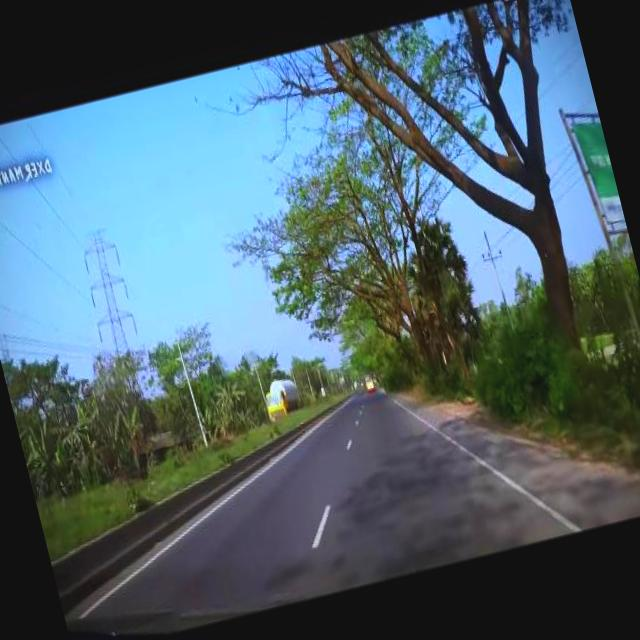bus: (360, 369, 378, 393)
truck: (258, 368, 306, 418)
